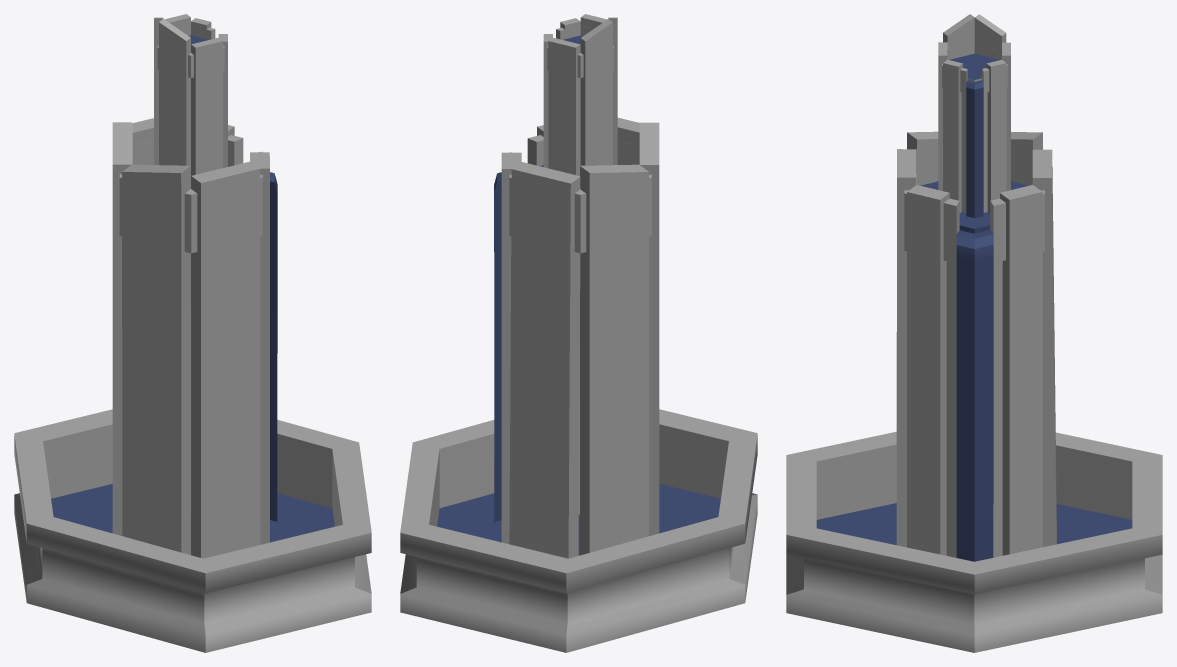
File: pileta 1.fbx
3 views of the same model, side by side, from view 1: azimuth 30°, elevation 25°; view 2: azimuth 150°, elevation 25°; view 3: azimuth 270°, elevation 25° (orthographic).
Parts seen in each view (by area): view 1: polySurface35, polySurface24, polySurface29, polySurface37, polySurface39, polySurface42, polySurface44, polySurface41, polySurface38, polySurface30; view 2: polySurface35, polySurface28, polySurface39, polySurface37, polySurface29, polySurface38, polySurface34, polySurface45, polySurface26, polySurface42, polySurface24, polySurface33; view 3: polySurface35, polySurface37, polySurface45, polySurface41, polySurface28, polySurface33, polySurface24, polySurface26, polySurface30, polySurface29, polySurface39, polySurface38 (+3 smaller).
Part boxes in pixels (x1,y1,x2,y2): polySurface35: [14, 409, 371, 652]; polySurface24: [191, 161, 260, 558]; polySurface29: [122, 164, 190, 554]; polySurface37: [119, 135, 277, 521]; polySurface39: [112, 122, 132, 535]; polySurface42: [159, 19, 190, 165]; polySurface44: [191, 37, 223, 175]; polySurface41: [250, 152, 269, 544]; polySurface38: [154, 17, 163, 164]; polySurface30: [218, 34, 227, 167]; polySurface35: [400, 409, 757, 652]; polySurface28: [509, 162, 580, 558]; polySurface39: [580, 164, 648, 555]; polySurface37: [494, 135, 651, 523]; polySurface29: [639, 122, 659, 536]; polySurface38: [580, 19, 612, 165]; polySurface34: [548, 37, 580, 175]; polySurface45: [501, 152, 521, 543]; polySurface26: [543, 34, 552, 168]; polySurface42: [608, 17, 617, 165]; polySurface24: [617, 117, 639, 145]; polySurface33: [547, 26, 613, 77]; polySurface35: [786, 431, 1162, 652]; polySurface37: [904, 162, 1044, 561]; polySurface45: [1000, 185, 1042, 555]; polySurface41: [907, 185, 949, 555]; polySurface28: [1032, 149, 1056, 547]; polySurface33: [942, 44, 1007, 218]; polySurface24: [896, 149, 916, 547]; polySurface26: [986, 59, 1006, 213]; polySurface30: [943, 59, 962, 212]; polySurface29: [907, 131, 938, 185]; polySurface39: [1011, 132, 1042, 185]; polySurface38: [974, 14, 1006, 50].
Bounding box in the file's own units: 3.62 × 5.74 × 3.61.
